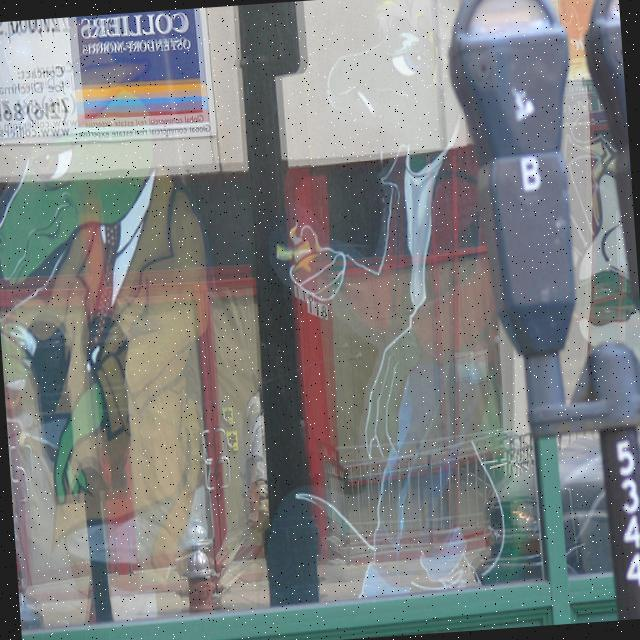fire_hydrant: (180, 544, 220, 614)
